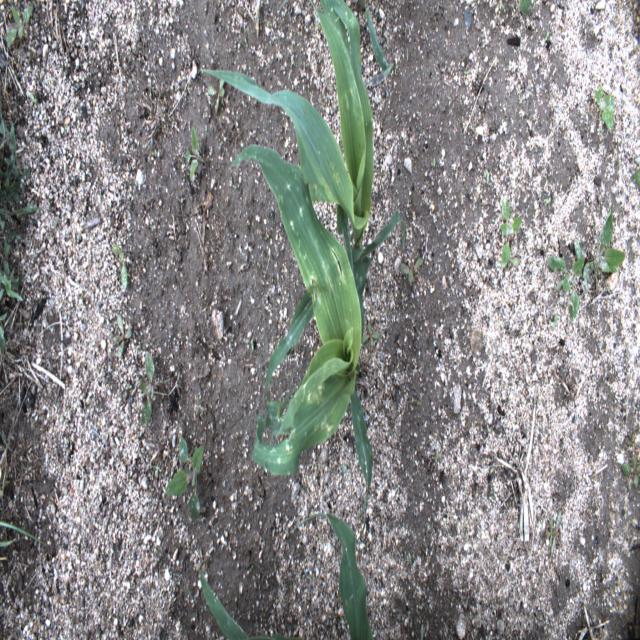crop: (196, 1, 404, 286), (218, 145, 370, 506), (197, 518, 374, 639)
weed: (2, 95, 68, 572), (544, 216, 630, 324), (162, 434, 210, 515), (497, 188, 528, 268), (132, 346, 156, 422), (180, 126, 209, 188), (587, 86, 619, 141), (104, 234, 129, 303), (5, 6, 36, 50)
